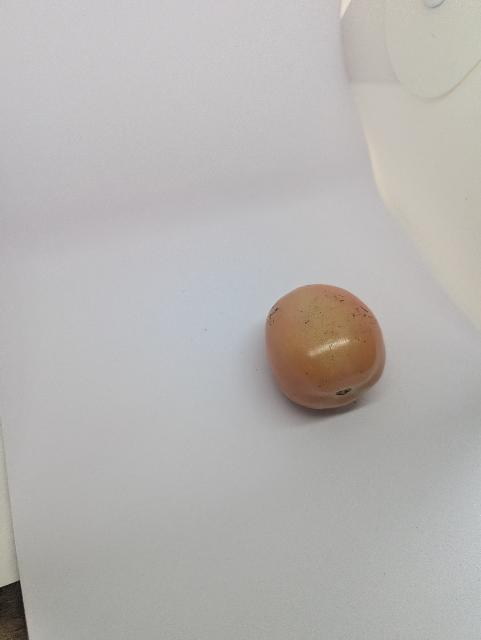turning: (261, 278, 389, 416)
